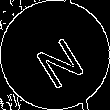N_NW: (25, 23, 85, 87)
